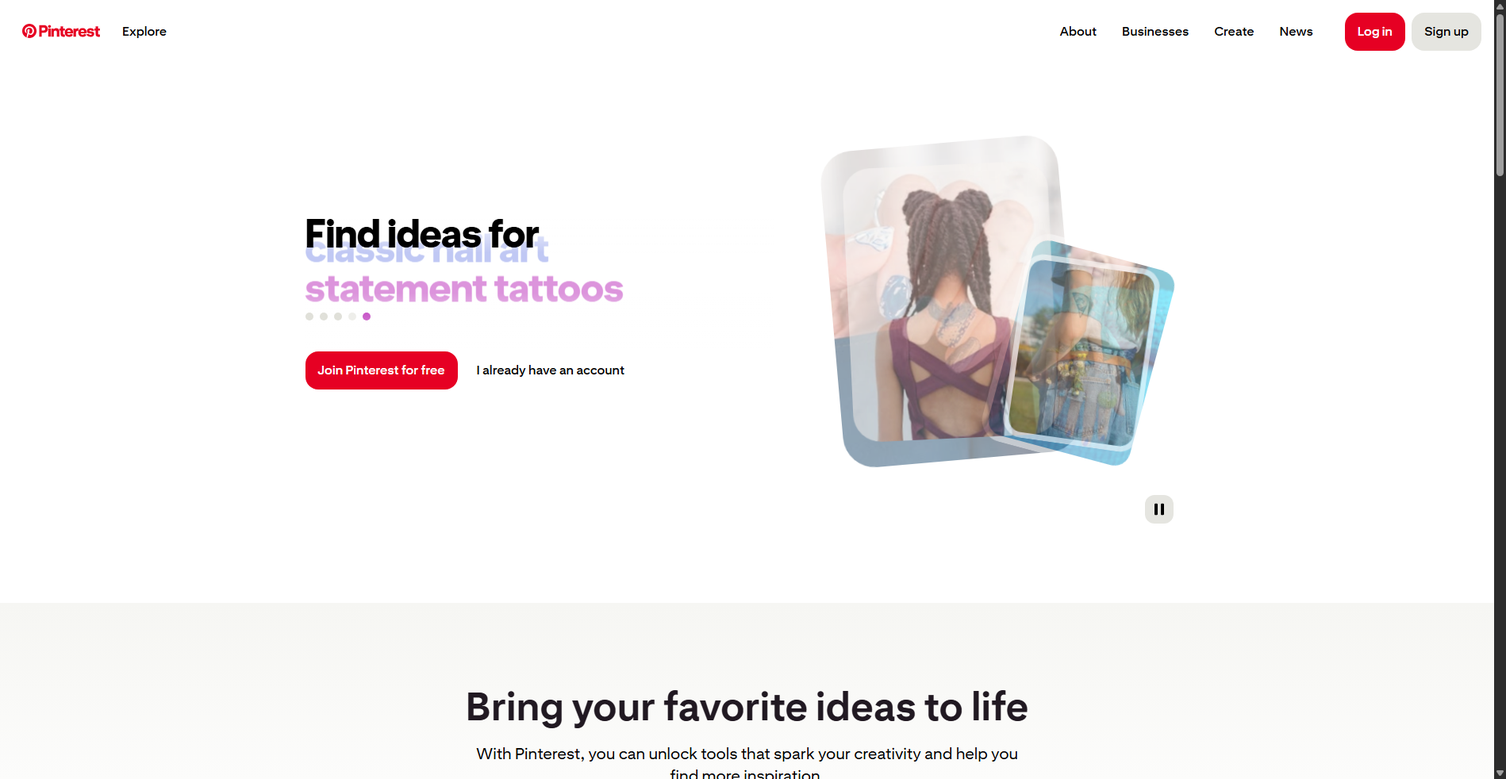general_button: (305, 351, 457, 390), (1412, 13, 1481, 51), (1345, 13, 1405, 51), (747, 129, 785, 167), (1145, 495, 1173, 524)
general_image: (818, 133, 1083, 470), (820, 135, 1081, 468), (981, 237, 1190, 485), (867, 191, 1034, 413), (1030, 282, 1141, 432)
general_link: (1109, 13, 1201, 51), (109, 13, 179, 51), (1201, 13, 1267, 51), (1047, 13, 1109, 51), (1267, 13, 1326, 51), (13, 23, 109, 40)
icon_profile: (464, 351, 637, 390)
